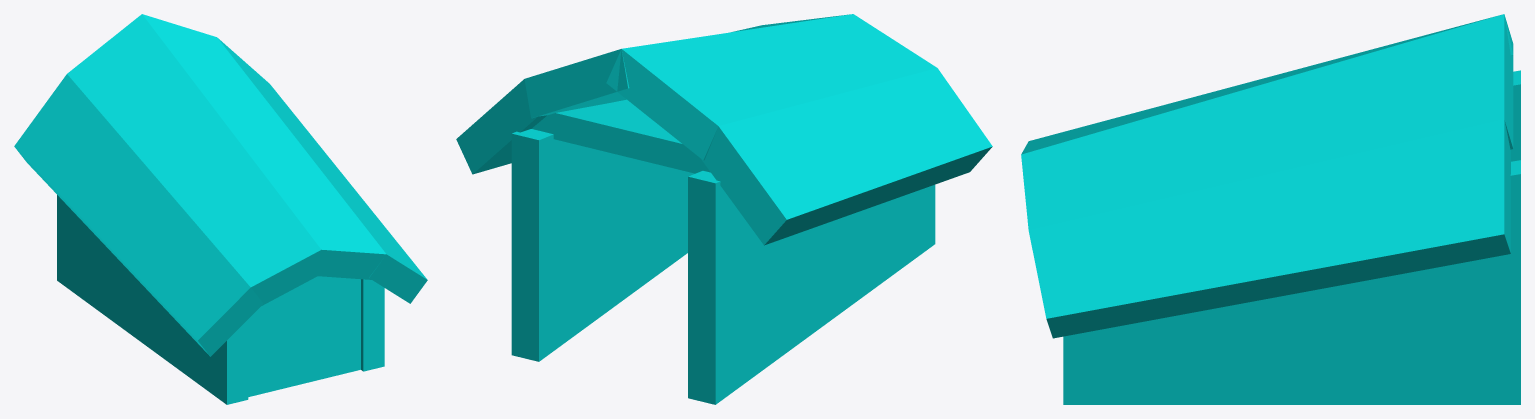
File: SM_Bld_Roof_Thatch_Preset_Overhang_02_Collision.fbx
The picture shows the model from 3 angles, left to right: view 1: azimuth 30°, elevation 25°; view 2: azimuth 150°, elevation 25°; view 3: azimuth 270°, elevation 25°; orthographic projection. The views are drawn at different scales.
Visible parts, largest first — view 1: SM_Bld_Roof_Thatch_Preset_Overhang_02_Collision; view 2: SM_Bld_Roof_Thatch_Preset_Overhang_02_Collision; view 3: SM_Bld_Roof_Thatch_Preset_Overhang_02_Collision.
Part boxes in pixels (x1=…): SM_Bld_Roof_Thatch_Preset_Overhang_02_Collision: x1=14, y1=14, x2=427, y2=404; SM_Bld_Roof_Thatch_Preset_Overhang_02_Collision: x1=456, y1=14, x2=992, y2=404; SM_Bld_Roof_Thatch_Preset_Overhang_02_Collision: x1=1021, y1=14, x2=1520, y2=404.
Bounding box in the file's own units: 468 × 441 × 589.
